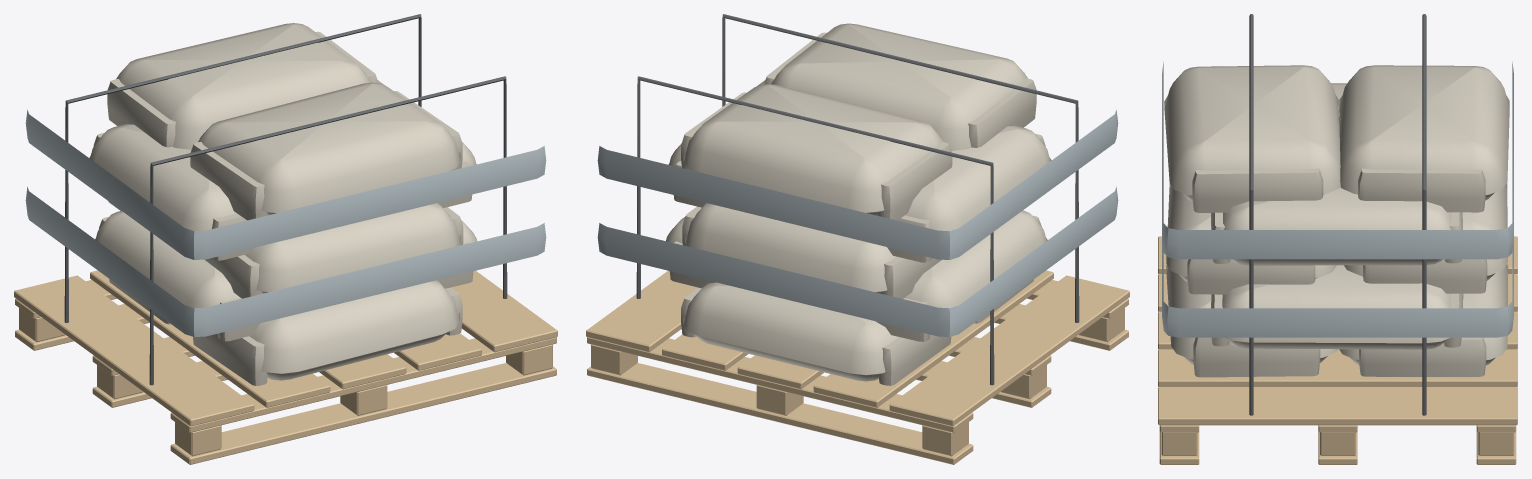
File: cement-bag-pallet.glb
3 renders of one model, left to right at view 1: azimuth 30°, elevation 25°; view 2: azimuth 150°, elevation 25°; view 3: azimuth 270°, elevation 25°, orthographic.
Parts seen in each view (by area): view 1: cement-bag-pallet; view 2: cement-bag-pallet; view 3: cement-bag-pallet.
Boxes of the visible parts, x1,y1,x2,y2 form: cement-bag-pallet: [14, 14, 557, 464]; cement-bag-pallet: [586, 14, 1129, 464]; cement-bag-pallet: [1158, 14, 1517, 464].
Bounding box in the file's own units: 1.2 × 0.8344 × 1.
